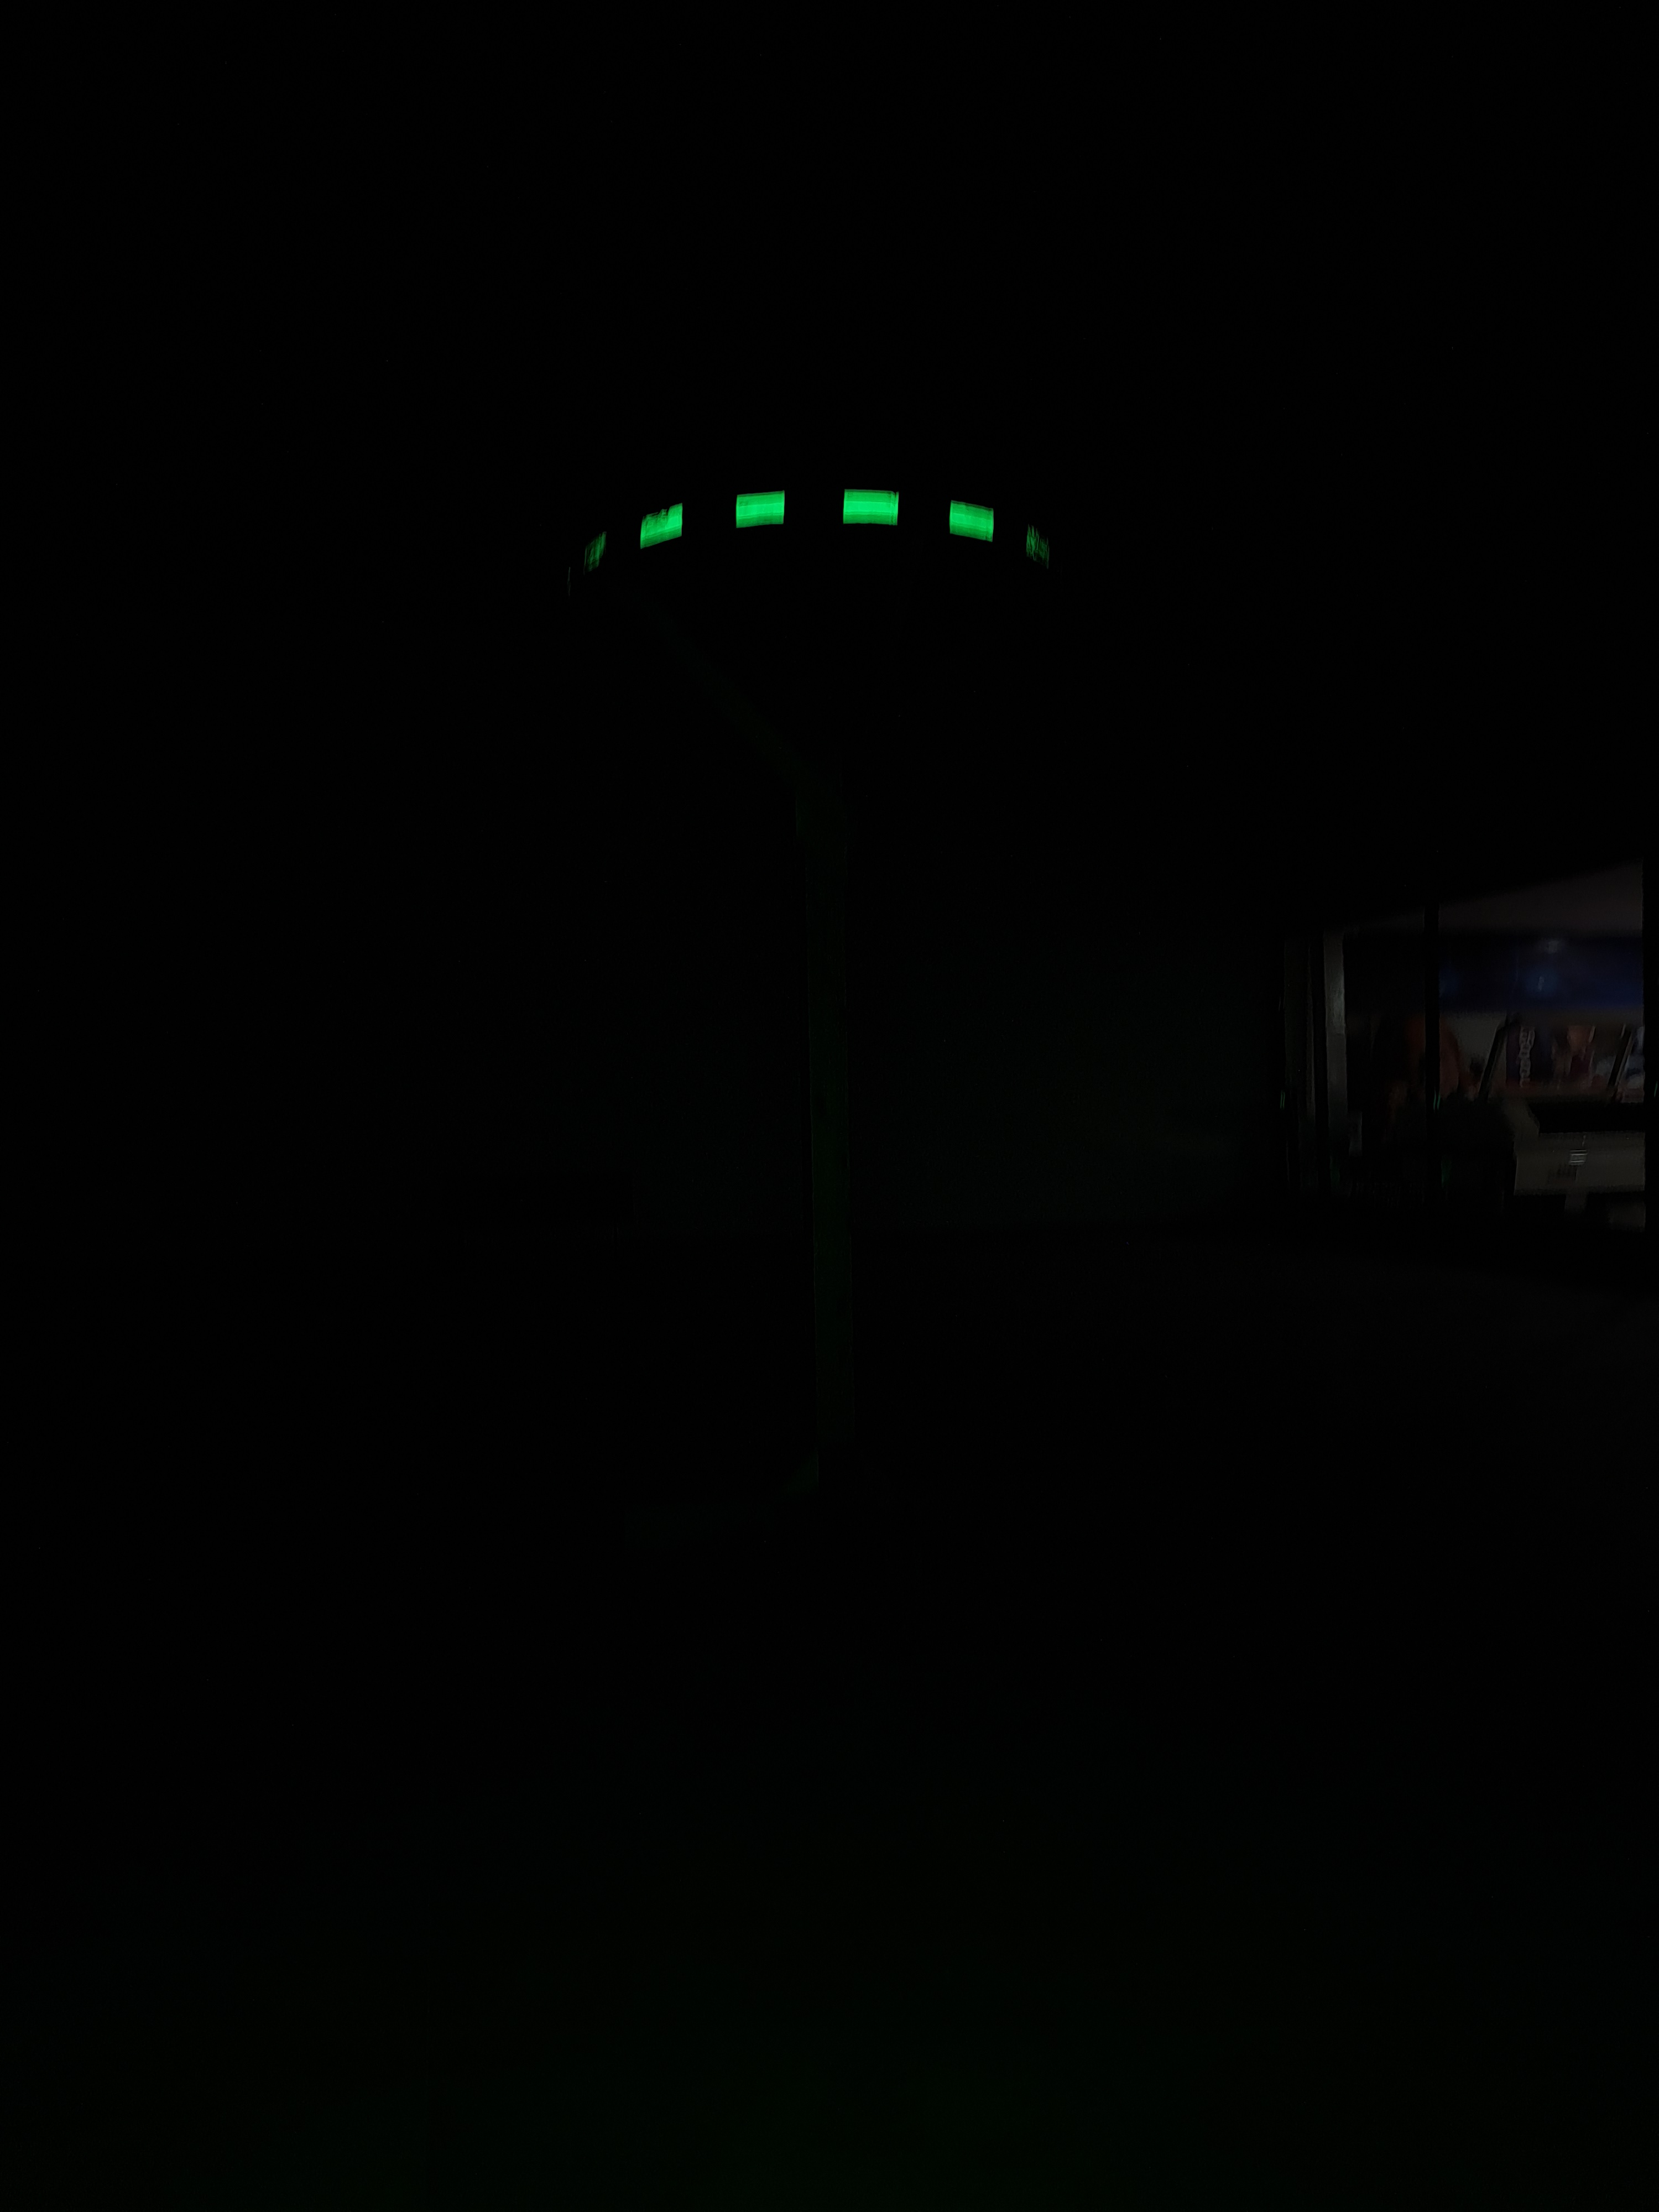hoop: (538, 477, 1072, 585)
